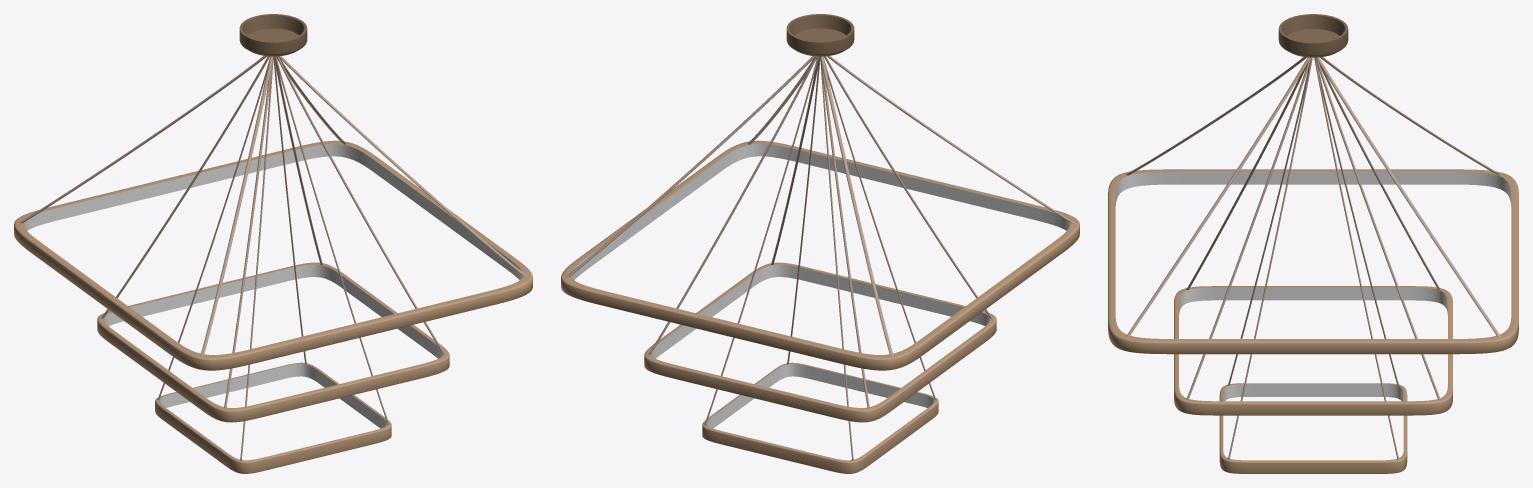
The model's file is lamp1.fbx.
3 renders of one model, left to right at view 1: azimuth 30°, elevation 25°; view 2: azimuth 150°, elevation 25°; view 3: azimuth 270°, elevation 25°, orthographic. The views are drawn at different scales.
Parts seen in each view (by area): view 1: lamp, Cylinder; view 2: lamp, Cylinder; view 3: lamp, Cylinder.
Part boxes in pixels (left/top/right/bottom): lamp: left=14, top=56, right=532, bottom=473; Cylinder: left=239, top=14, right=307, bottom=56; lamp: left=561, top=56, right=1079, bottom=473; Cylinder: left=786, top=14, right=854, bottom=56; lamp: left=1108, top=57, right=1518, bottom=473; Cylinder: left=1278, top=14, right=1348, bottom=57.
Size of the model in its own units: 63.92 by 69.74 by 63.92.
